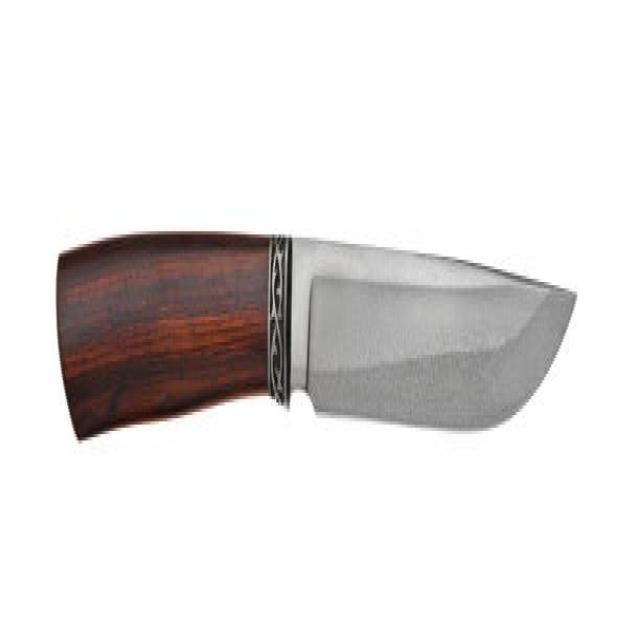knife: (42, 216, 582, 507)
